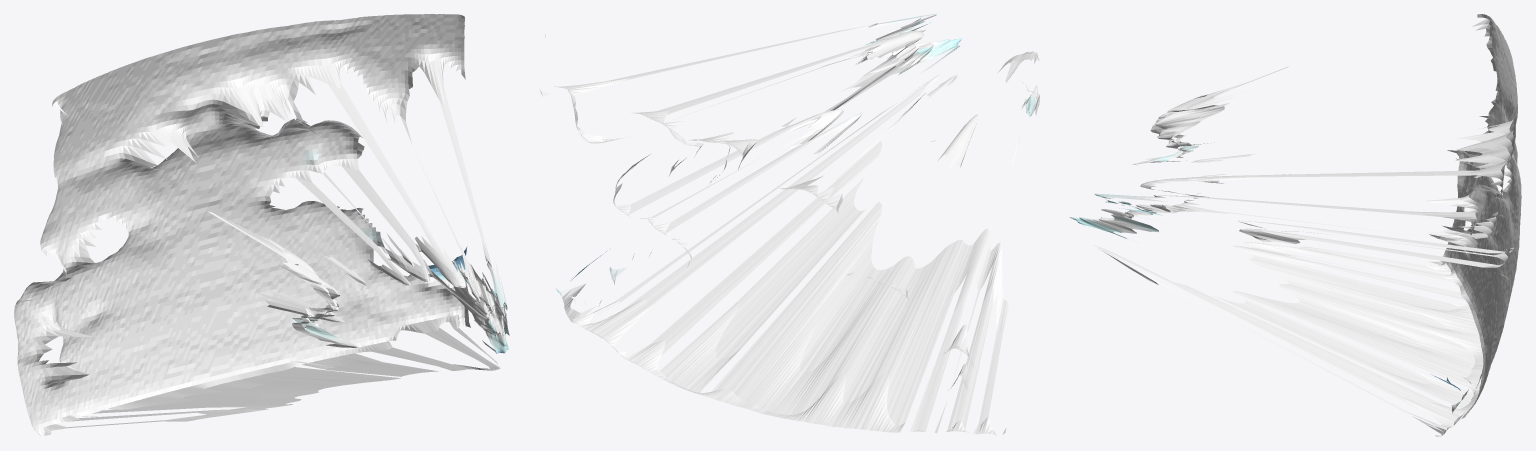
3 renders of one model, left to right at view 1: azimuth 30°, elevation 25°; view 2: azimuth 150°, elevation 25°; view 3: azimuth 270°, elevation 25°, orthographic. The views are drawn at different scales.
Visible parts, largest first — view 1: defaultobject; view 2: defaultobject; view 3: defaultobject.
Part boxes in pixels (x1=…): defaultobject: x1=14, y1=14, x2=509, y2=436; defaultobject: x1=539, y1=14, x2=1039, y2=435; defaultobject: x1=1070, y1=14, x2=1521, y2=436.
Size of the model in its own units: 40.39 by 27.53 by 40.05.
1 material, 1 textured.
